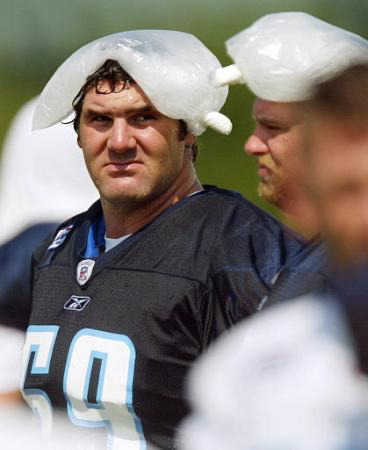Face: (68, 86, 182, 205), (246, 90, 302, 201)
